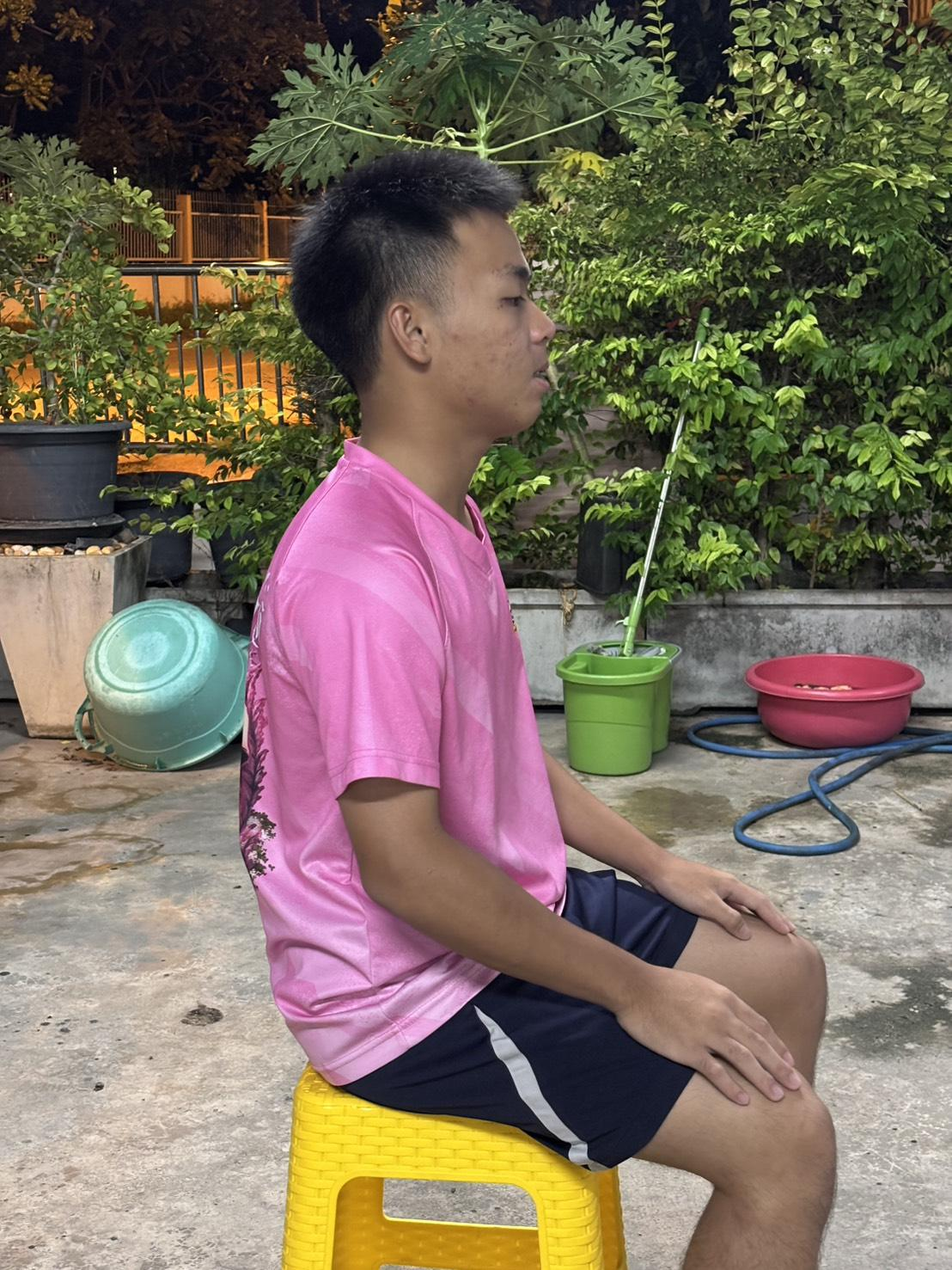GoodPosture: (241, 148, 836, 1269), (241, 151, 564, 1083)
